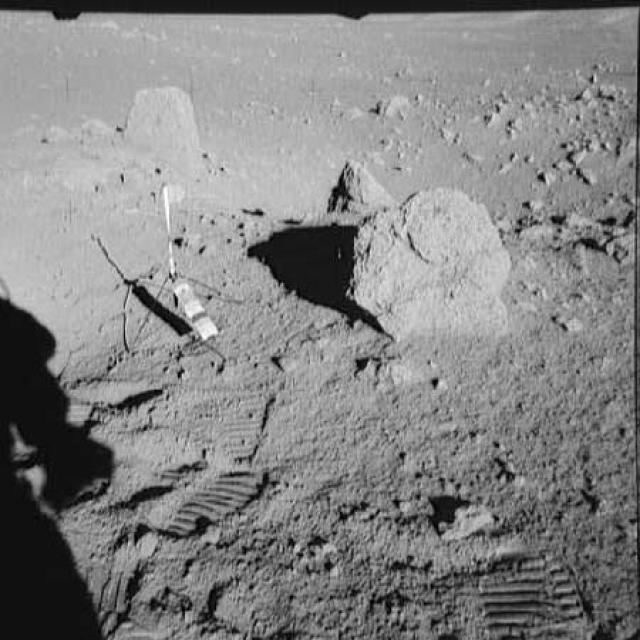artifact: (100, 183, 256, 362)
rock: (343, 180, 511, 346), (117, 83, 208, 147), (311, 157, 393, 209), (436, 499, 496, 546), (369, 84, 411, 117)
